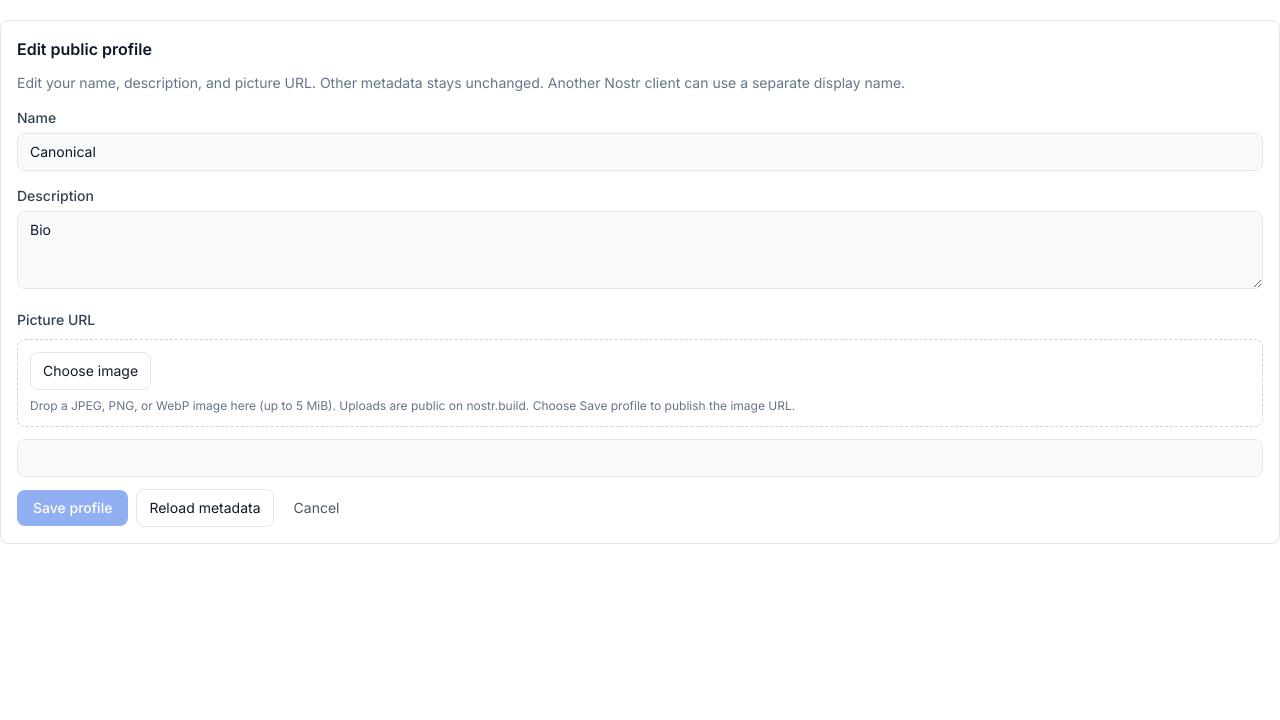
it: Nostr profile editor › keeps the draft after read-failed and keeps the error until explicit dismissal
Replace the text in the field labelled "Name" with "Unsaved draft" at (640, 152), box [17,133,1263,171]
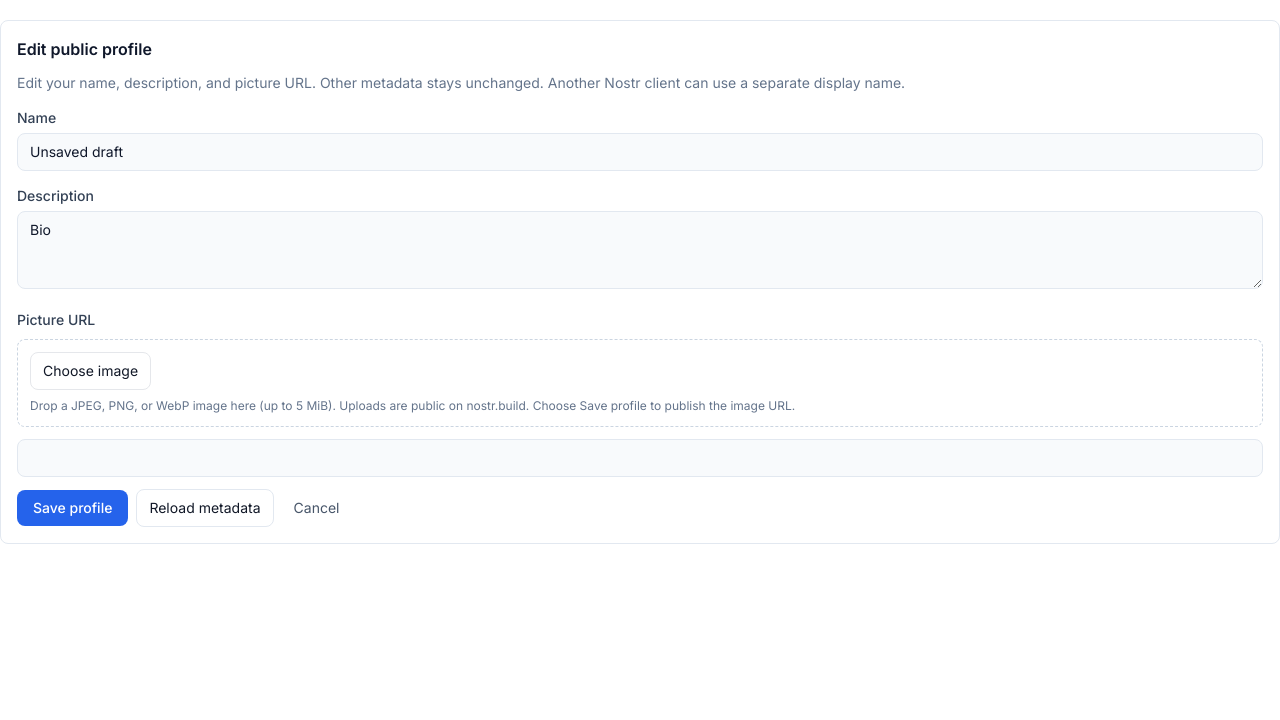
Click the button "Save profile" at (73, 508), box [17,490,128,526]
Wait 120000 ms
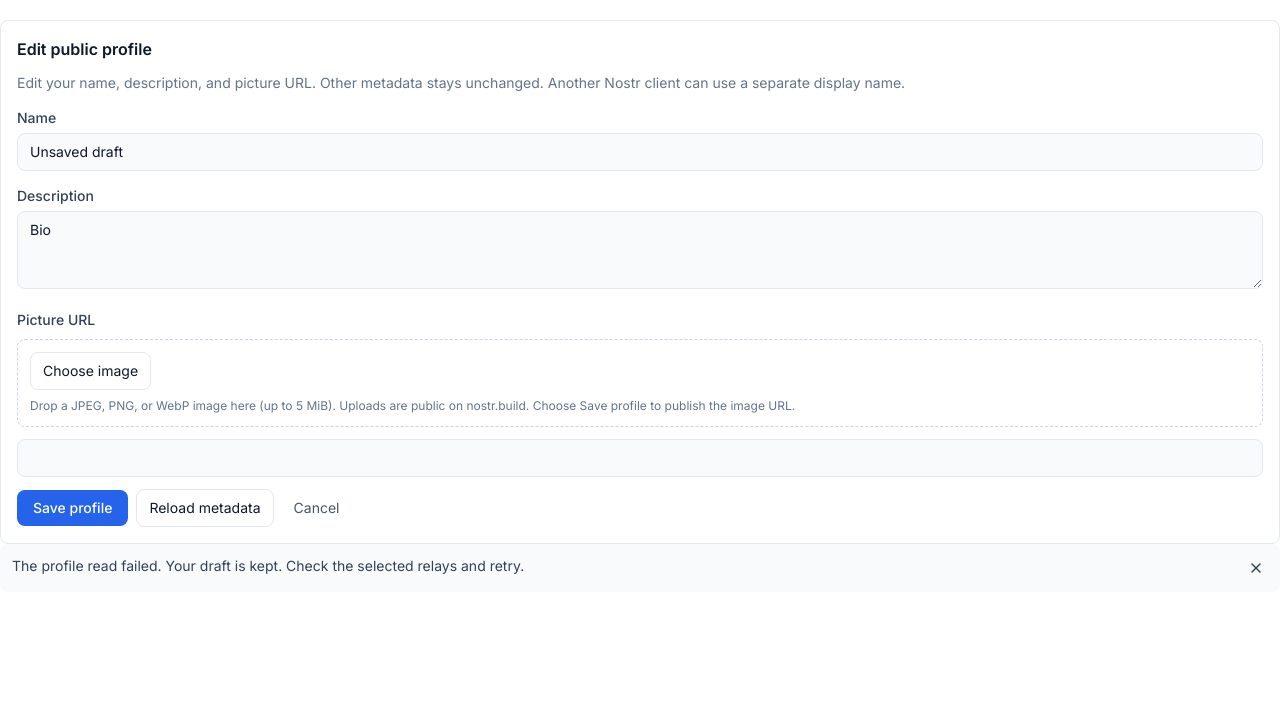
Result: the button "Save profile" is enabled at [17,490,128,526]
Result: the message is shown at [0,544,1279,592]
Click the button named "Dismiss profile message" at (1256, 568), box [1244,556,1268,580]
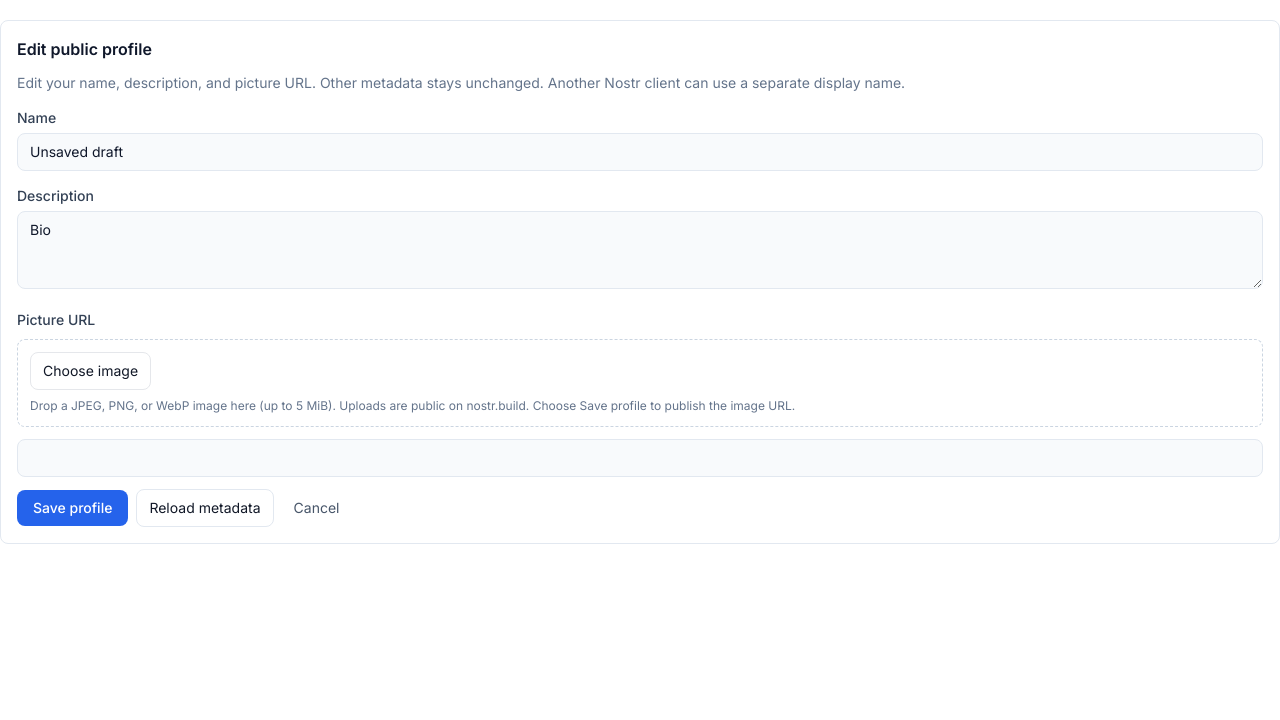
Result: the message is gone
